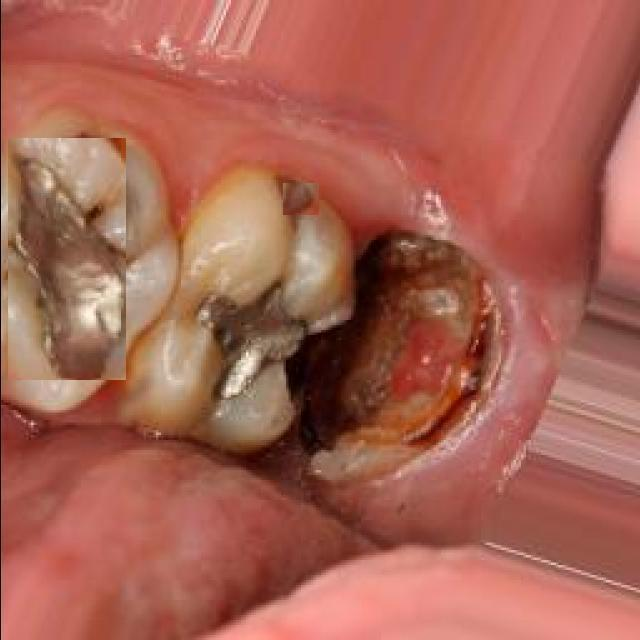decay: (300, 240, 465, 452), (7, 138, 125, 380), (195, 278, 307, 413), (282, 183, 318, 215)
